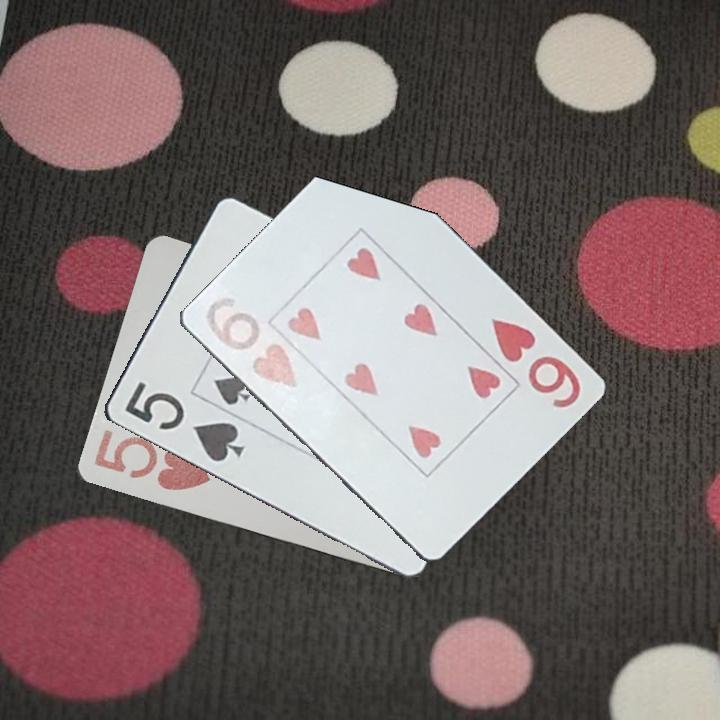5h: (90, 426, 213, 494)
5s: (120, 377, 247, 465)
6h: (196, 291, 300, 396), (487, 315, 584, 411)
